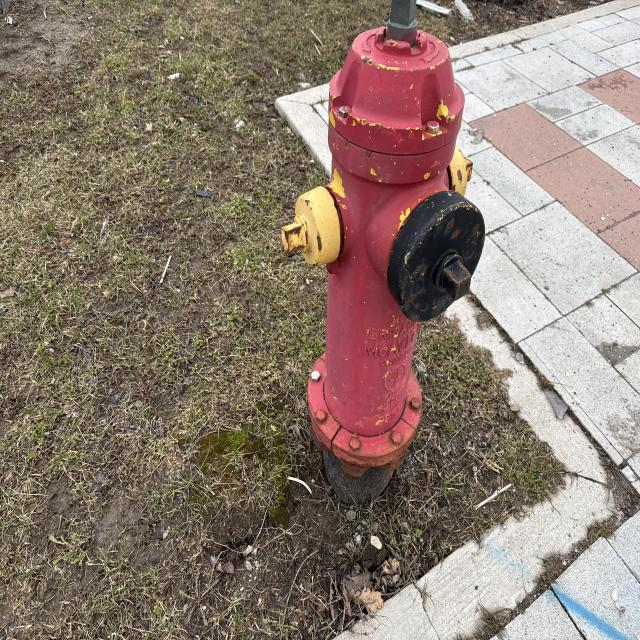Fire hydrant: (279, 0, 486, 480)
